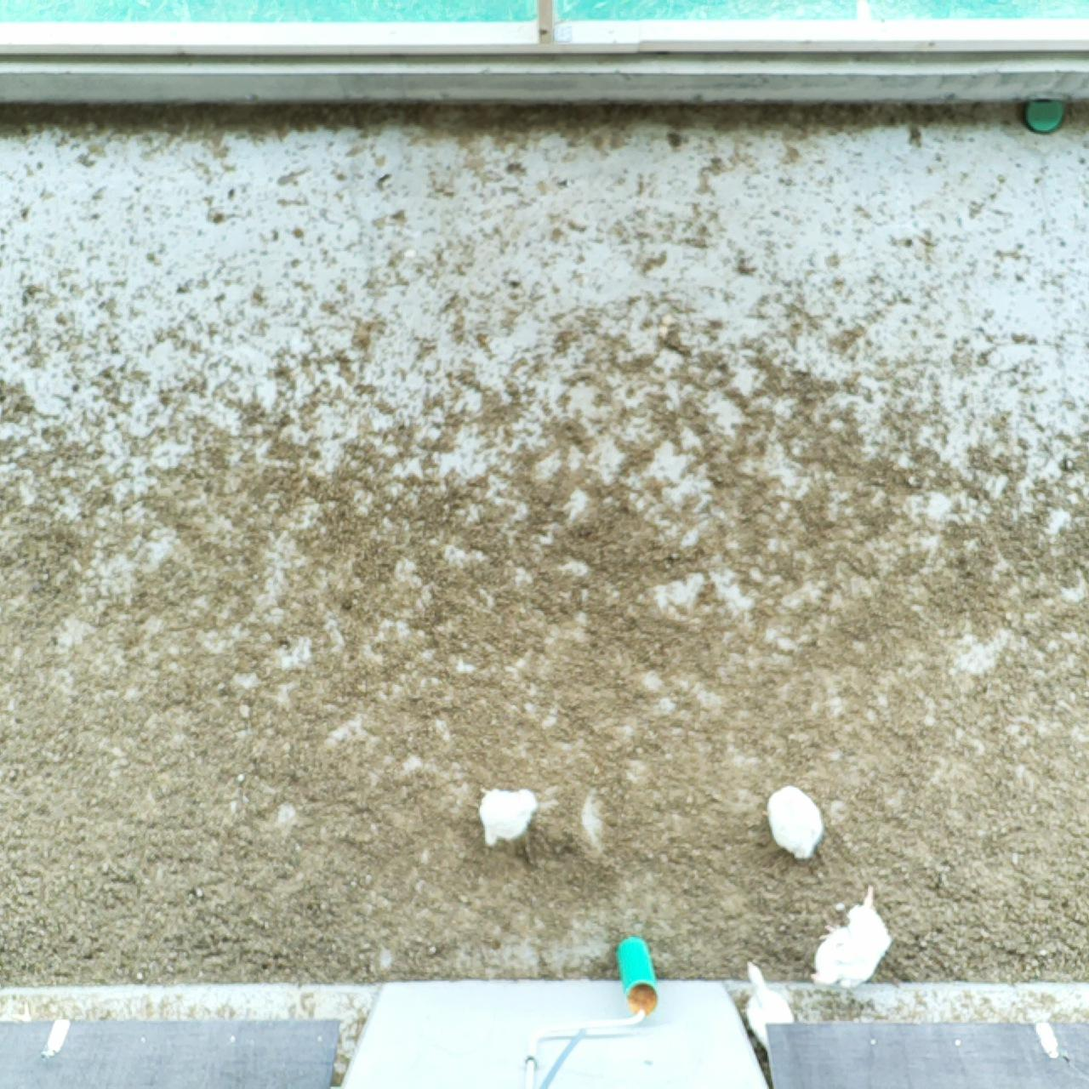chicken: (807, 884, 899, 991), (738, 957, 800, 1052), (762, 782, 830, 864), (473, 782, 542, 850)
